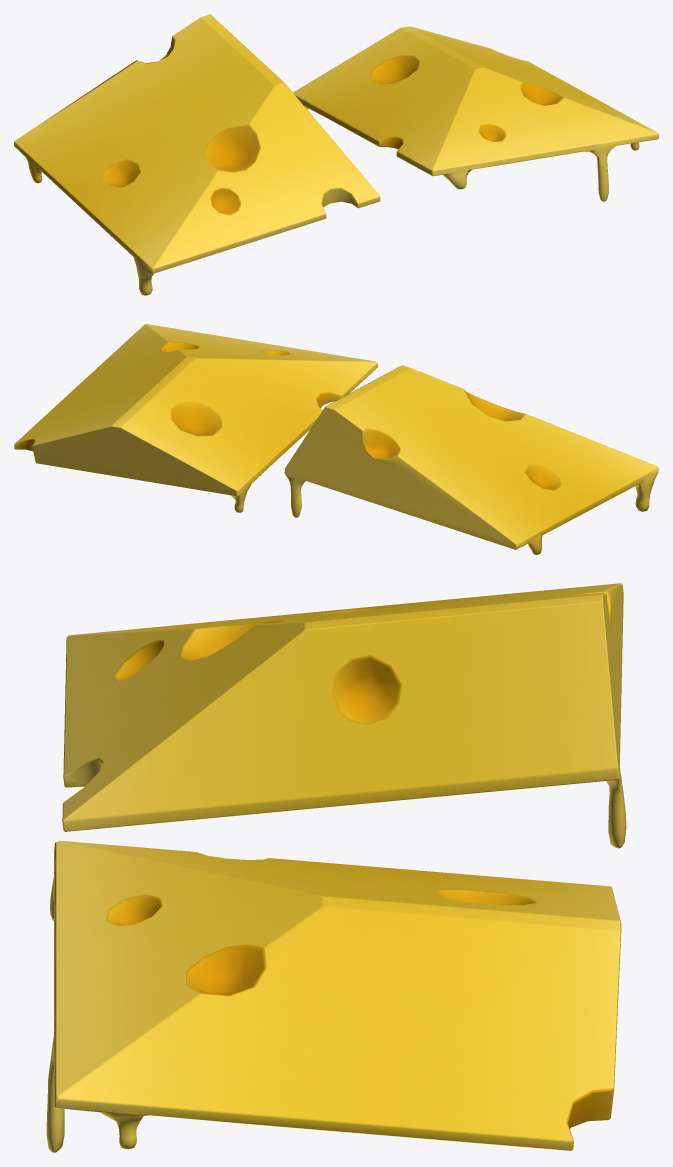
File: mod_sc_roma_topcheese_002.fbx
The picture shows the model from 3 angles, top to bottom: view 1: azimuth 30°, elevation 25°; view 2: azimuth 150°, elevation 25°; view 3: azimuth 270°, elevation 25°; orthographic projection. The views are drawn at different scales.
Parts seen in each view (by area): view 1: mod_sc_roma_topcheese_002; view 2: mod_sc_roma_topcheese_002; view 3: mod_sc_roma_topcheese_002.
Boxes of the visible parts, x1,y1,x2,y2 form: mod_sc_roma_topcheese_002: [14, 14, 658, 295]; mod_sc_roma_topcheese_002: [14, 324, 658, 554]; mod_sc_roma_topcheese_002: [46, 583, 626, 1152].
Size of what is drawn, in the model's own units: 4598 by 1302 by 2280.
Materials: 1 (1 with a texture image).
